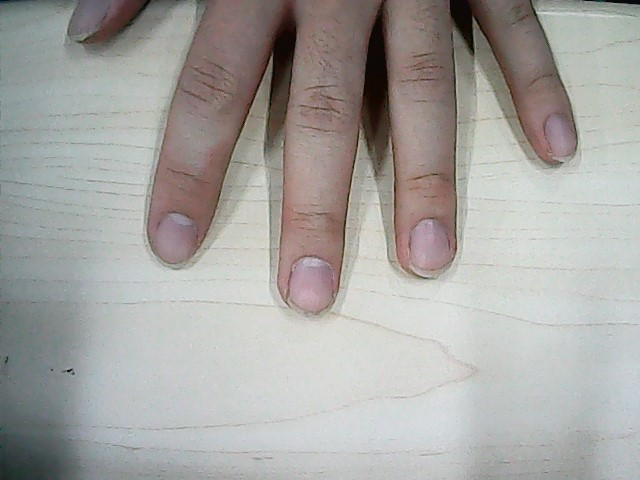nail: (286, 253, 336, 315), (404, 215, 453, 278), (151, 208, 200, 269), (64, 1, 107, 46), (541, 111, 579, 161)
